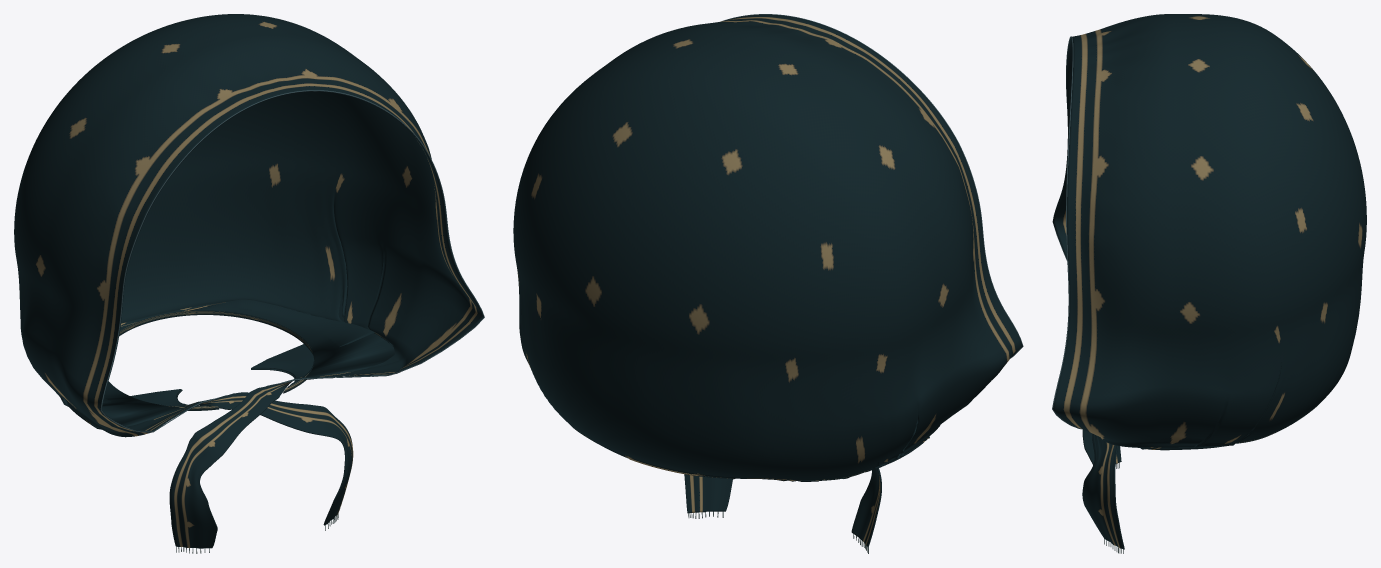
Rendered from Feminine-box-braids-sweatshirt-pashmina250-headgear.glb.
3 renders of one model, left to right at view 1: azimuth 30°, elevation 25°; view 2: azimuth 150°, elevation 25°; view 3: azimuth 270°, elevation 25°, orthographic. The views are drawn at different scales.
Parts seen in each view (by area): view 1: 226 headgear / Headwear / continuous woven pashmina239, 226 headgear / Headwear / face edge239; view 2: 226 headgear / Headwear / continuous woven pashmina239, 226 headgear / Headwear / face edge239; view 3: 226 headgear / Headwear / continuous woven pashmina239, 226 headgear / Headwear / face edge239.
Part boxes in pixels (left/top/right/bottom): 226 headgear / Headwear / continuous woven pashmina239: left=14, top=14, right=483, bottom=548; 226 headgear / Headwear / face edge239: left=100, top=90, right=484, bottom=432; 226 headgear / Headwear / continuous woven pashmina239: left=513, top=14, right=1022, bottom=547; 226 headgear / Headwear / face edge239: left=721, top=14, right=1023, bottom=358; 226 headgear / Headwear / continuous woven pashmina239: left=1052, top=14, right=1366, bottom=549; 226 headgear / Headwear / face edge239: left=1052, top=36, right=1081, bottom=429.
Size of the model in its own units: 1.2 by 1.4 by 0.8336.
3 materials, 1 textured.
